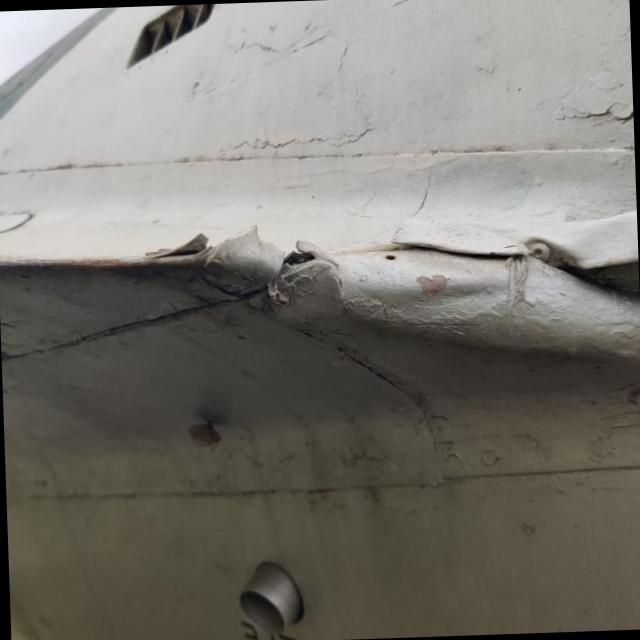Crack: (139, 233, 211, 269), (281, 240, 316, 266)
